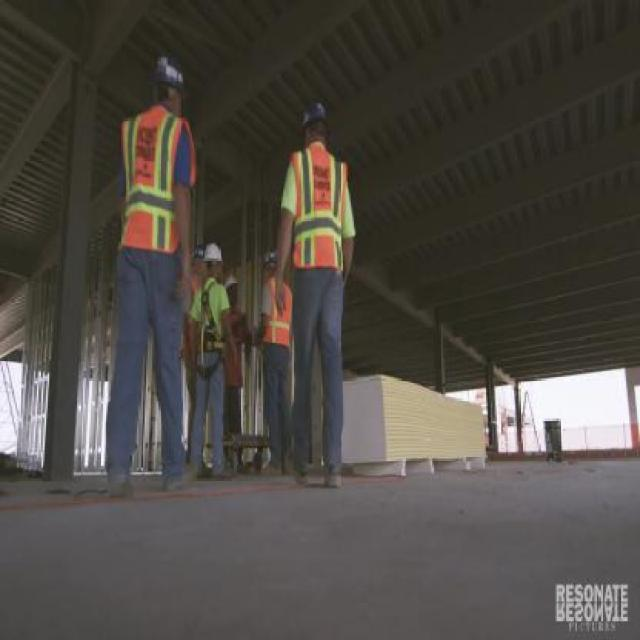Vest: (121, 103, 196, 254), (290, 142, 348, 272), (259, 279, 292, 347), (224, 307, 247, 383), (182, 275, 203, 350)
helmet: (144, 50, 188, 96), (297, 99, 328, 127), (204, 243, 227, 262), (261, 247, 279, 264), (193, 242, 209, 256), (225, 274, 240, 288)
person: (103, 41, 196, 499), (278, 100, 360, 491), (193, 241, 229, 480), (256, 246, 294, 468), (227, 274, 254, 443)
